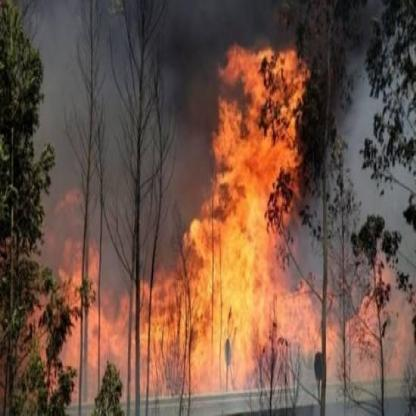fire: (46, 27, 410, 386)
